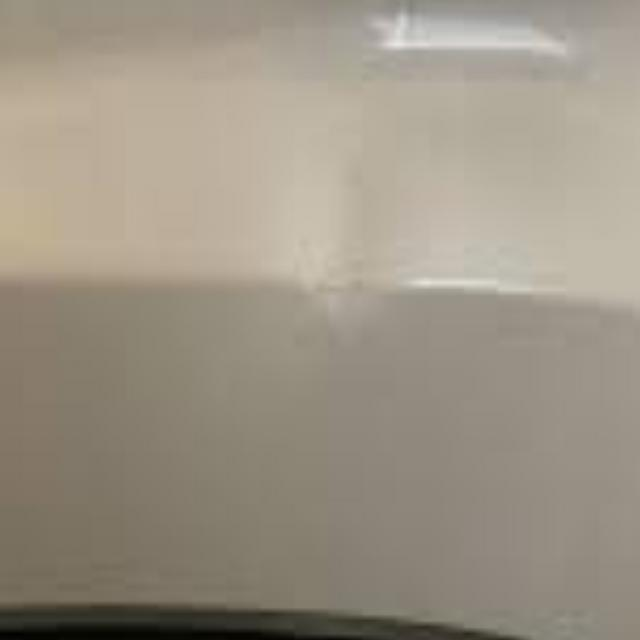dents: (268, 203, 398, 384)
